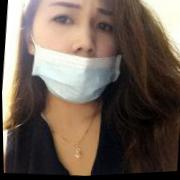WRONG: (27, 1, 128, 109)
